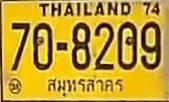0: (32, 23, 52, 70), (117, 21, 136, 69)
2: (94, 22, 114, 70)
7: (11, 22, 30, 70)
8: (71, 22, 89, 69)
9: (140, 21, 160, 69)
SKN: (43, 75, 125, 96)
